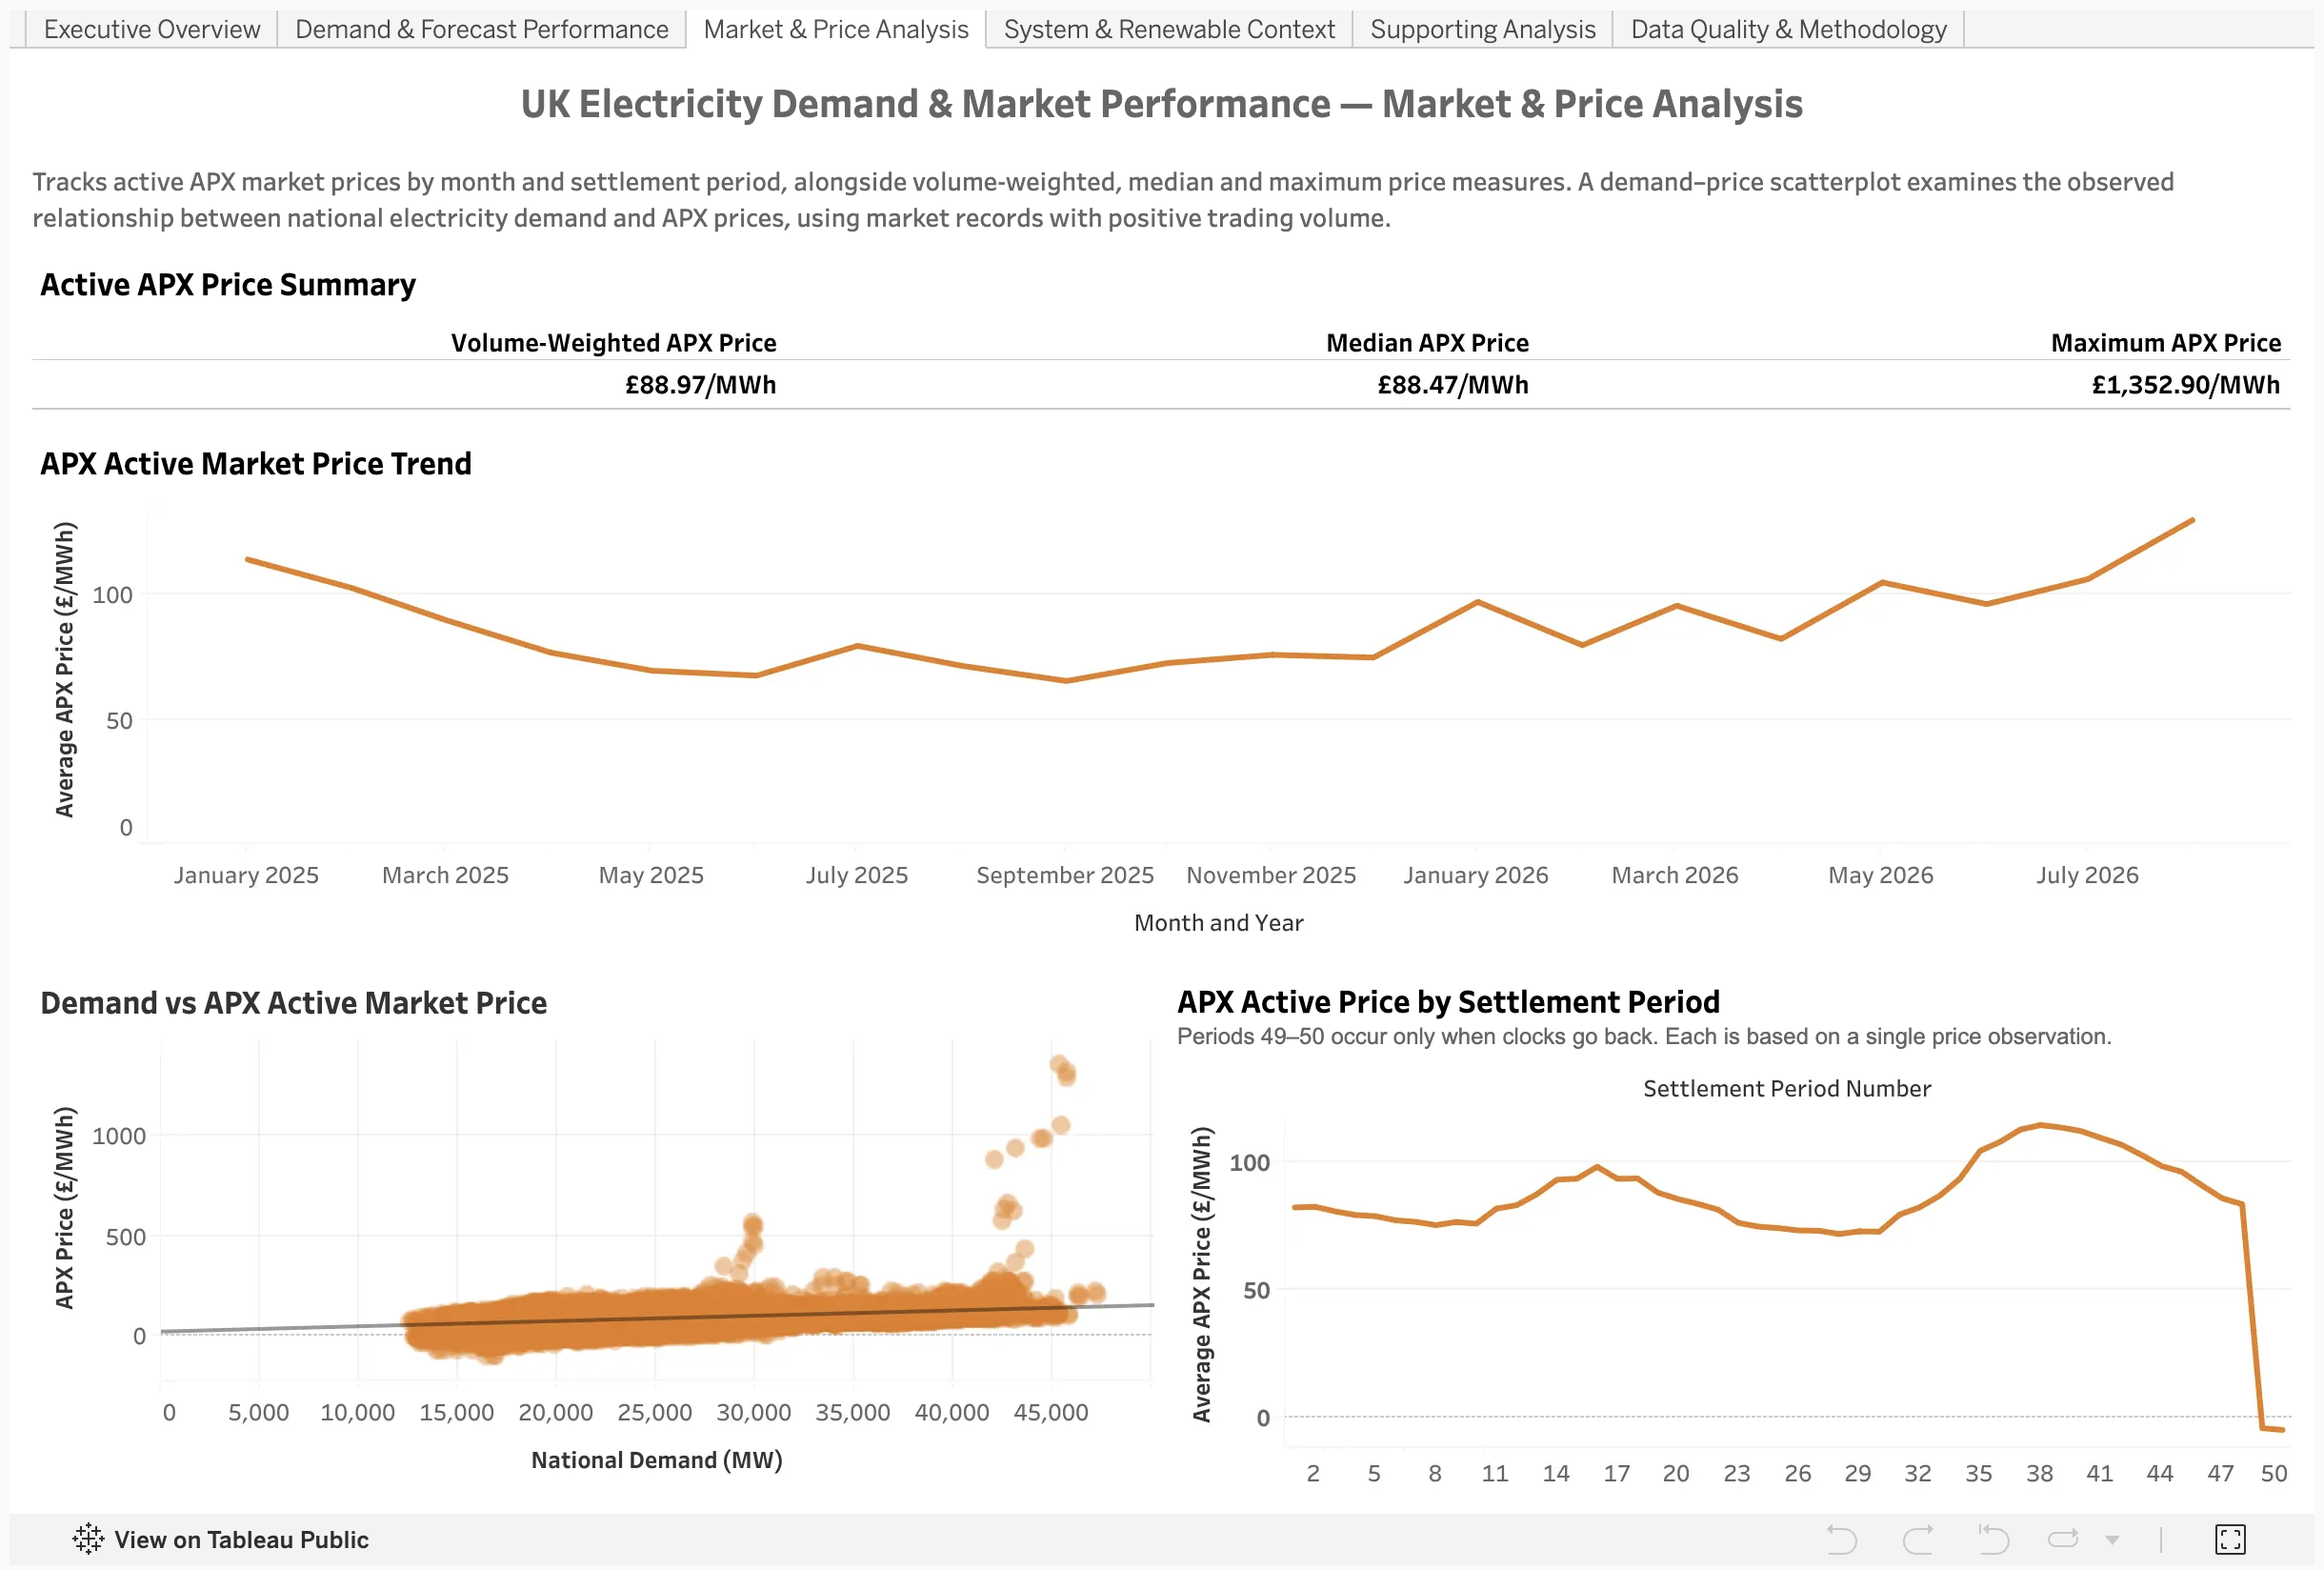

The page's visual inventory and layout, read from the dashboard file:
{"tool":"tableau","page":{"name":"Market & Price Analysis","canvas":[1210,766],"ordinal":3},"visuals":[{"type":"text","box":[8,8,1194,91]},{"type":"worksheet","title":"KPI - Active APX Price Summary","mark":"Automatic","box":[8,99,1194,94]},{"type":"worksheet","title":"APX Active Market Price Trend","mark":"Line","rows":["Calculation_0116049558306826"],"cols":["Date"],"box":[8,193,1194,283]},{"type":"worksheet","title":"Demand vs APX Active Market Price","mark":"Circle","rows":["Calculation_0116049558306826"],"cols":["Calculation_0116049546895360"],"box":[8,476,597,282]},{"type":"worksheet","title":"APX Active Price by Settlement Period","mark":"Line","rows":["Calculation_0116049558306826"],"cols":["Settlement Period"],"box":[605,476,596.8,282]}]}

Visuals, with their boxes on the page's 1210x766 design canvas (x1, y1, x2, y2). These are canvas units, not pixel positions in the 2324x1570 screenshot, which may show the page scaled, cropped or inside an application window:
text: x1=8 y1=8 x2=1202 y2=99
"KPI - Active APX Price Summary" worksheet: x1=8 y1=99 x2=1202 y2=193
"APX Active Market Price Trend" worksheet (Line marks): x1=8 y1=193 x2=1202 y2=476
"Demand vs APX Active Market Price" worksheet (Circle marks): x1=8 y1=476 x2=605 y2=758
"APX Active Price by Settlement Period" worksheet (Line marks): x1=605 y1=476 x2=1202 y2=758
